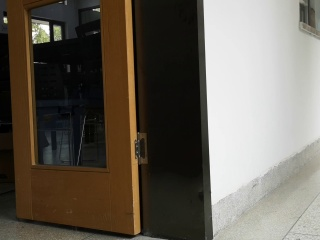room: (3, 3, 215, 237)
